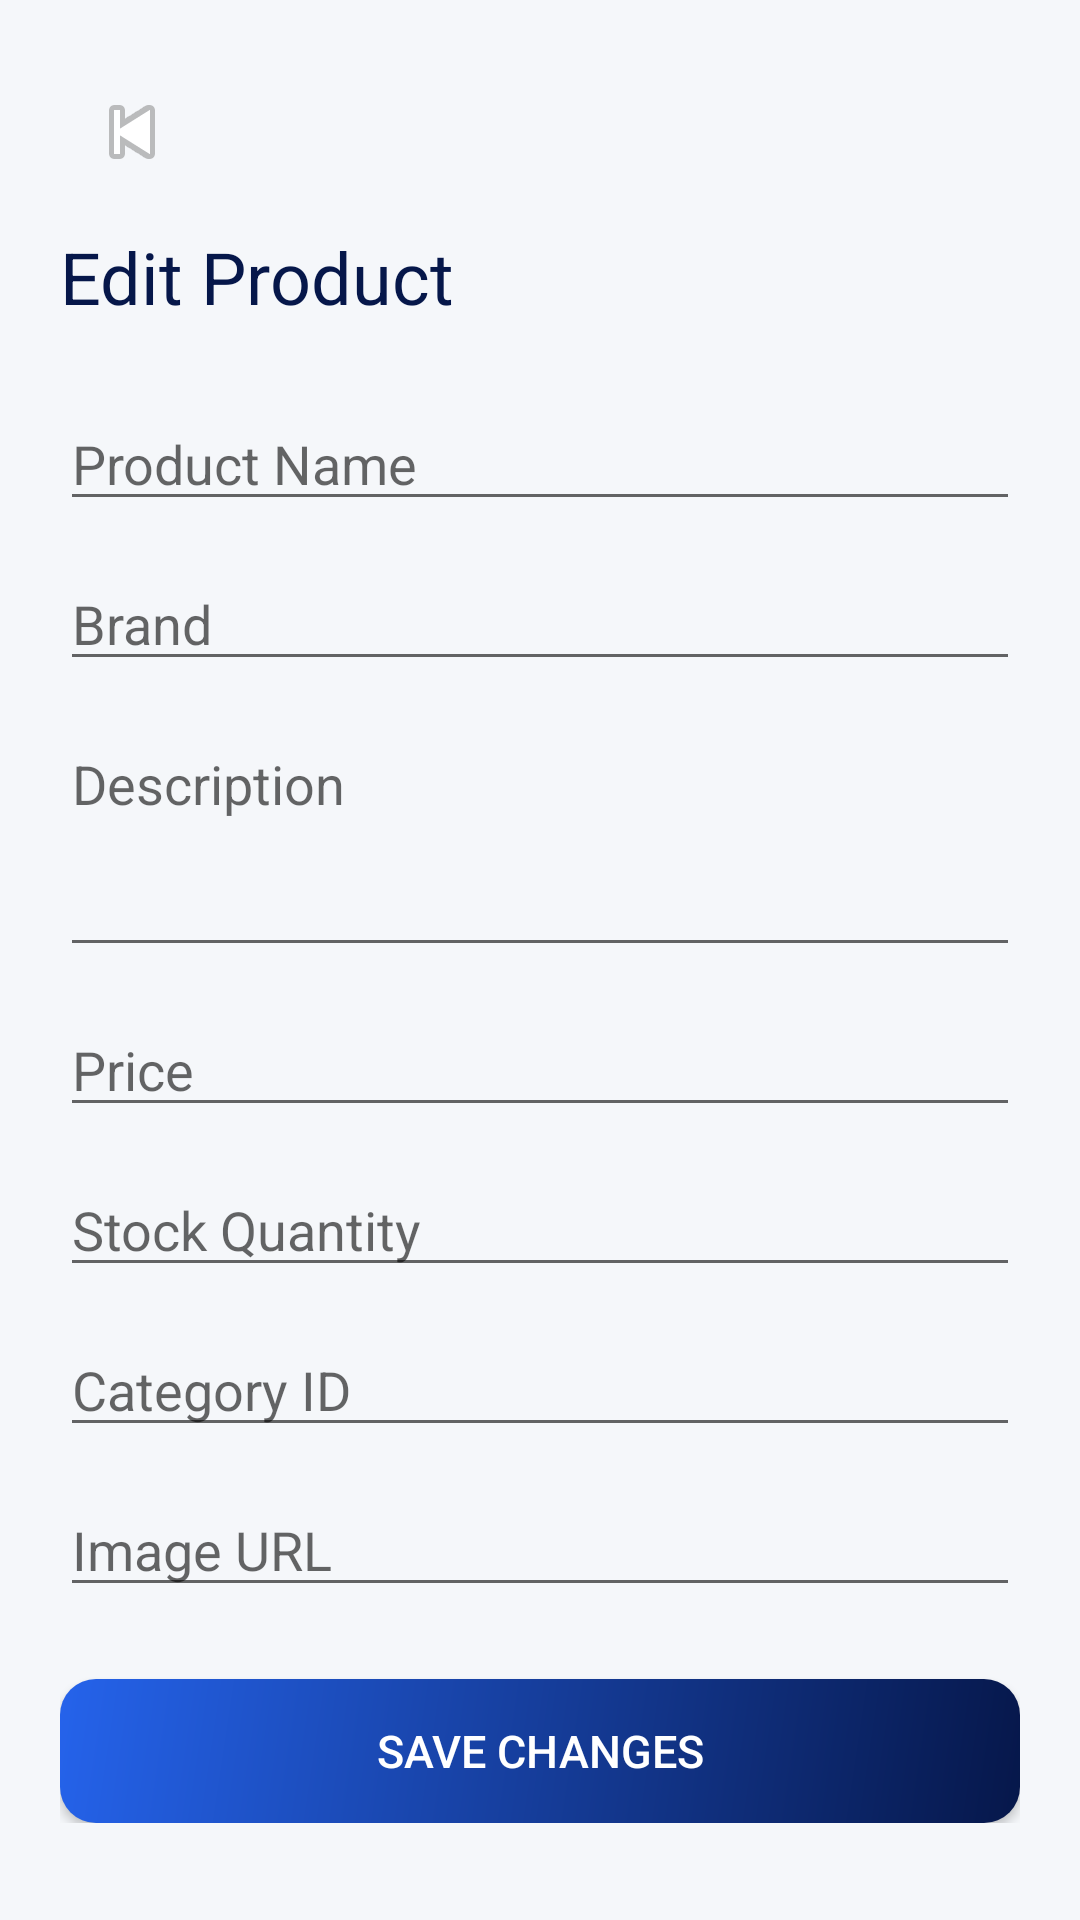

Icons on this 1080×1920 Android screen, each with its box as (x1, y1, x2, y2):
Back: (109, 105, 155, 159)
